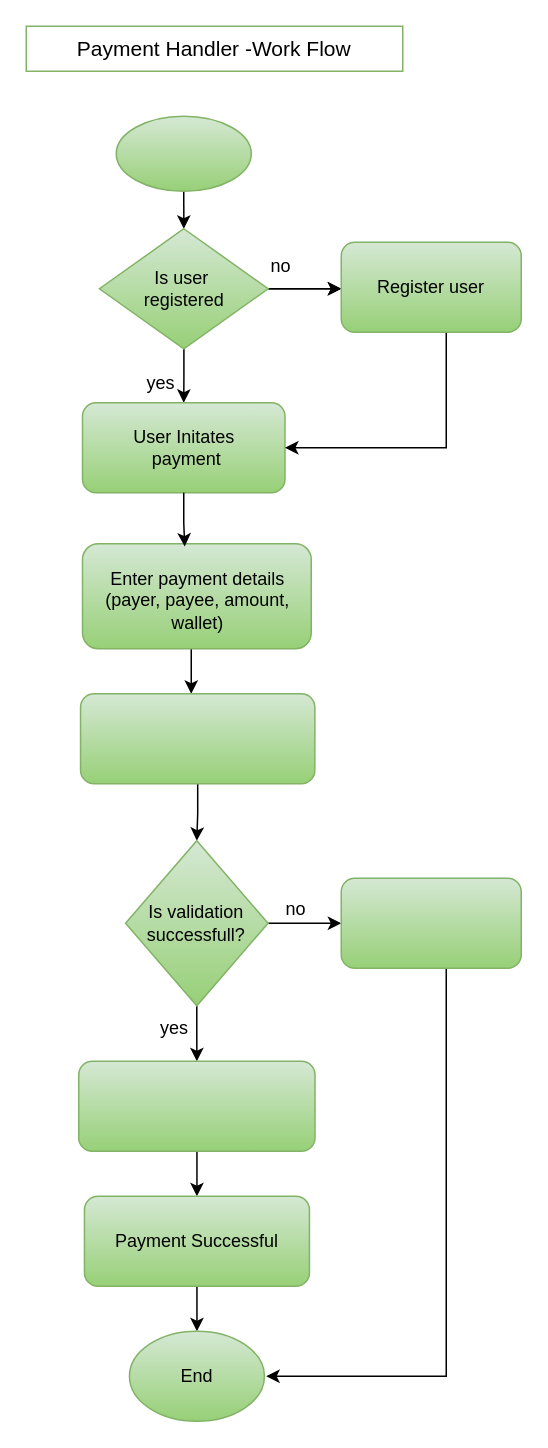
Some shapes in this 548 by 1448 pixel diagram are drawn without their labels. The shapes that lost their labels are listed below. From the top down, each one's centre as x and y in pixels, then its label:
the point at 183,153: User
the point at 197,738: Validate payment (user exists, sufficient balance, amount > 0)
the point at 430,922: Payment failed
the point at 196,1105: Update wallet balances and store transaction
